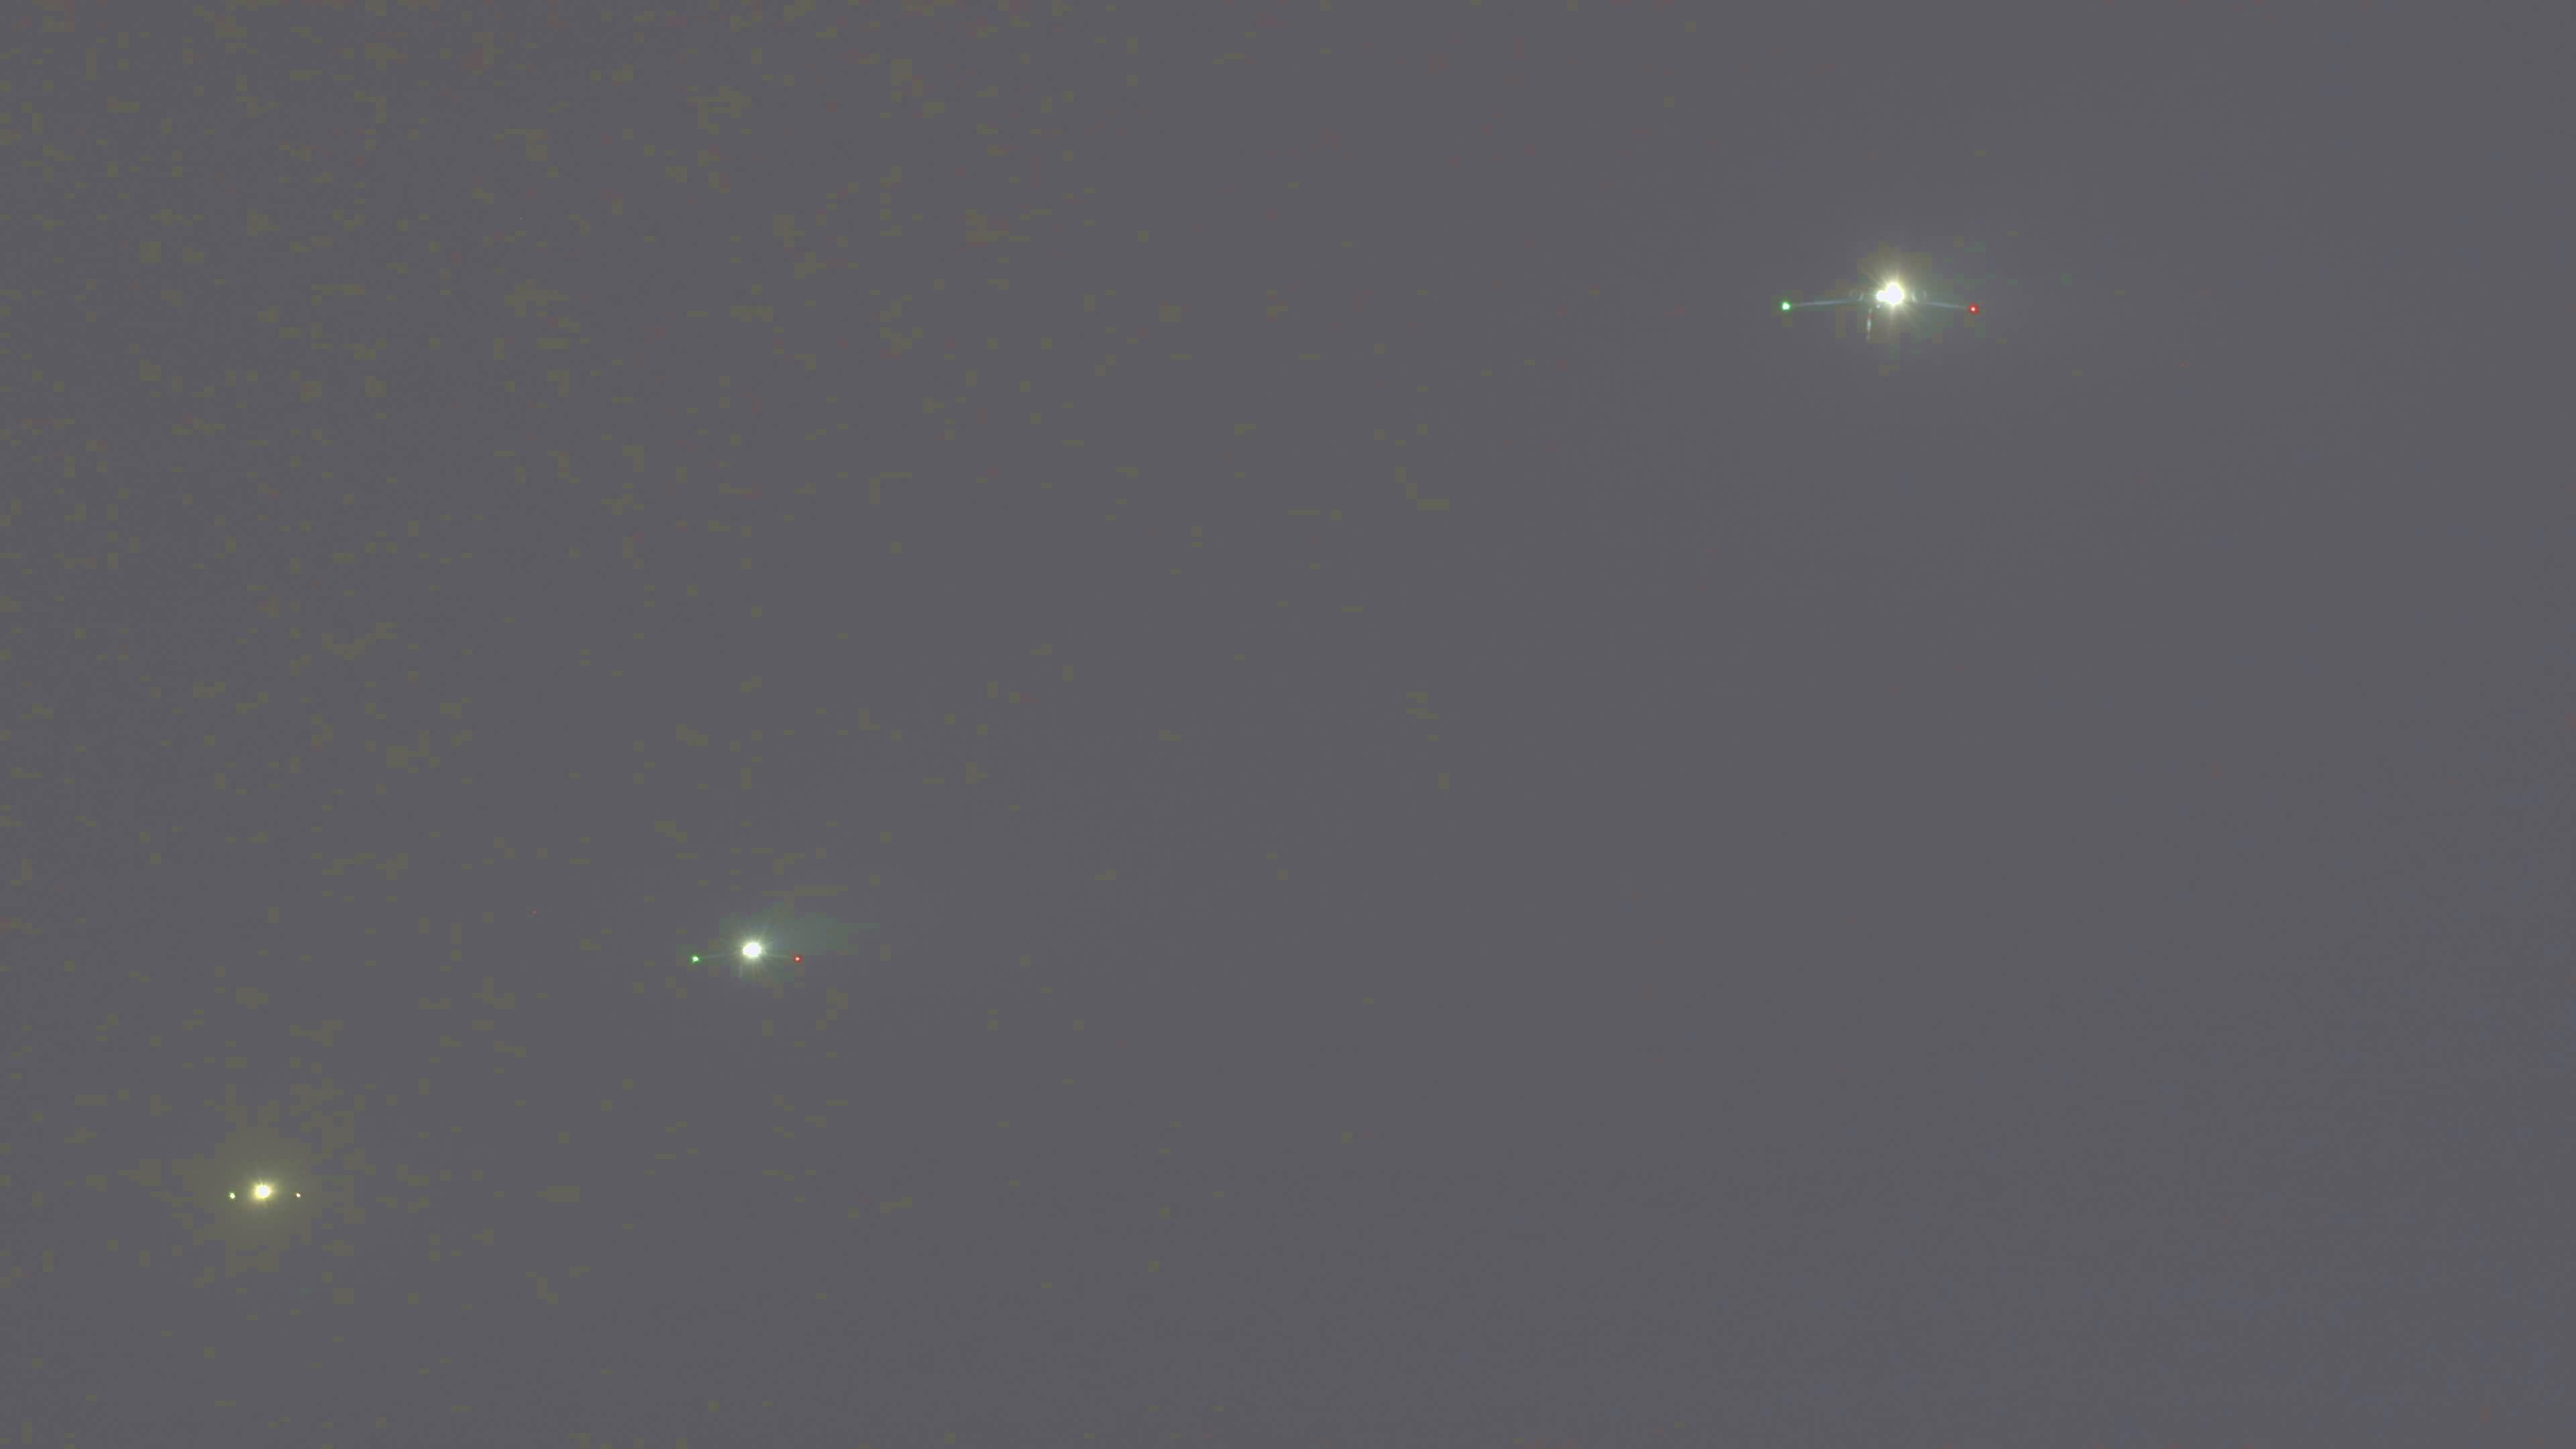Plane: (1697, 234, 2061, 370), (660, 916, 870, 984), (189, 1162, 320, 1212)
